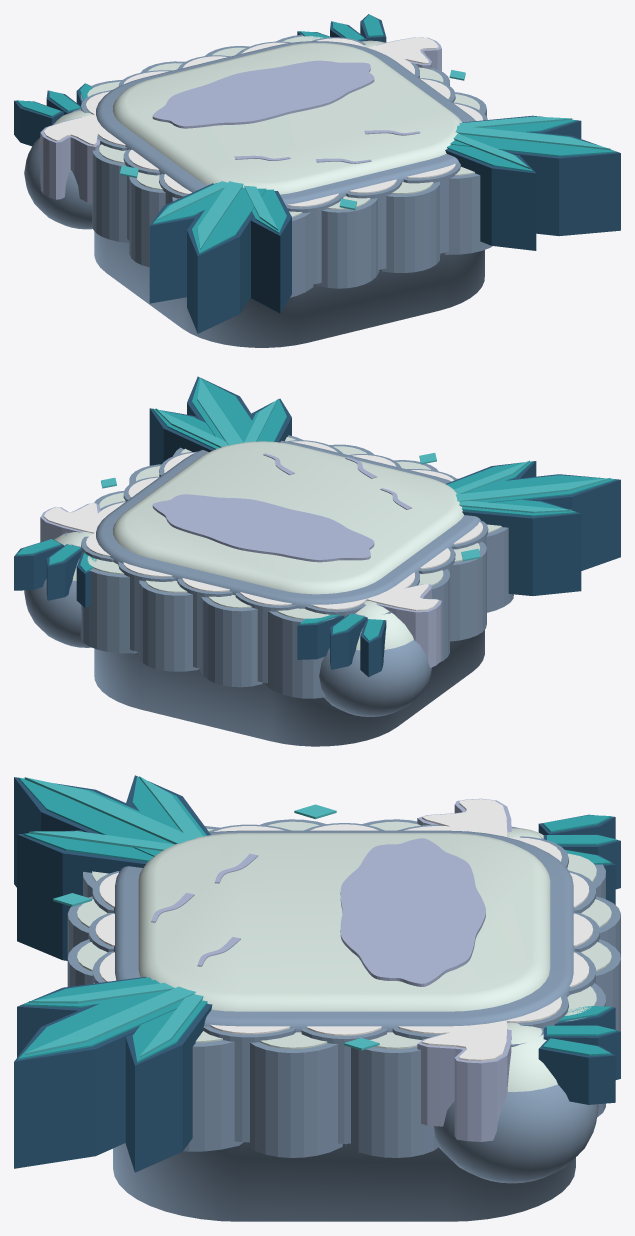
Rendered from body_yeti.fbx.
3 views of the same model, one above another, from view 1: azimuth 30°, elevation 25°; view 2: azimuth 150°, elevation 25°; view 3: azimuth 270°, elevation 25° (orthographic). The views are drawn at different scales.
Visible parts, largest first — view 1: body_yeti_corpo, body_yeti_mao_esq, body_yeti_mao; view 2: body_yeti_corpo, body_yeti_mao_esq, body_yeti_mao; view 3: body_yeti_corpo, body_yeti_mao, body_yeti_mao_esq.
Boxes of the visible parts, x1=… form: body_yeti_corpo: x1=65, y1=34, x2=620, y2=347; body_yeti_mao_esq: x1=14, y1=83, x2=100, y2=229; body_yeti_mao: x1=297, y1=14, x2=441, y2=71; body_yeti_corpo: x1=65, y1=376, x2=620, y2=746; body_yeti_mao_esq: x1=297, y1=584, x2=441, y2=716; body_yeti_mao: x1=14, y1=502, x2=106, y2=647; body_yeti_corpo: x1=14, y1=775, x2=620, y2=1221; body_yeti_mao: x1=417, y1=1006, x2=620, y2=1183; body_yeti_mao_esq: x1=417, y1=798, x2=620, y2=904.
Bounding box in the file's own units: 5.94 × 2.03 × 5.24.
1 material, 1 textured.
